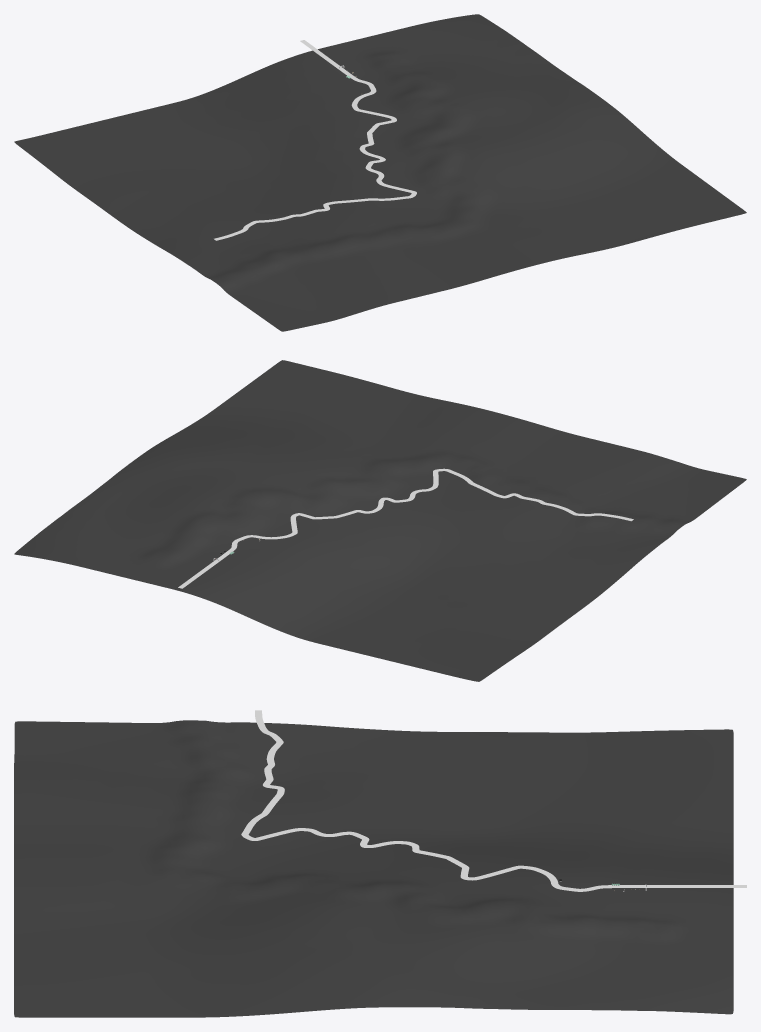
The model's file is chevreuse-test.glb.
3 views of the same model, one above another, from view 1: azimuth 30°, elevation 25°; view 2: azimuth 150°, elevation 25°; view 3: azimuth 270°, elevation 25° (orthographic). The views are drawn at different scales.
Parts seen in each view (by area): view 1: Plane, road; view 2: Plane, road; view 3: Plane, road.
Part boxes in pixels (x1,y1,x2,y2): Plane: [14, 14, 746, 331]; road: [214, 40, 416, 240]; Plane: [14, 360, 746, 681]; road: [178, 468, 633, 588]; Plane: [14, 720, 733, 1017]; road: [241, 710, 746, 891].
Bounding box in the file's own units: 198 × 12.22 × 202.
23 materials, 3 textured.
